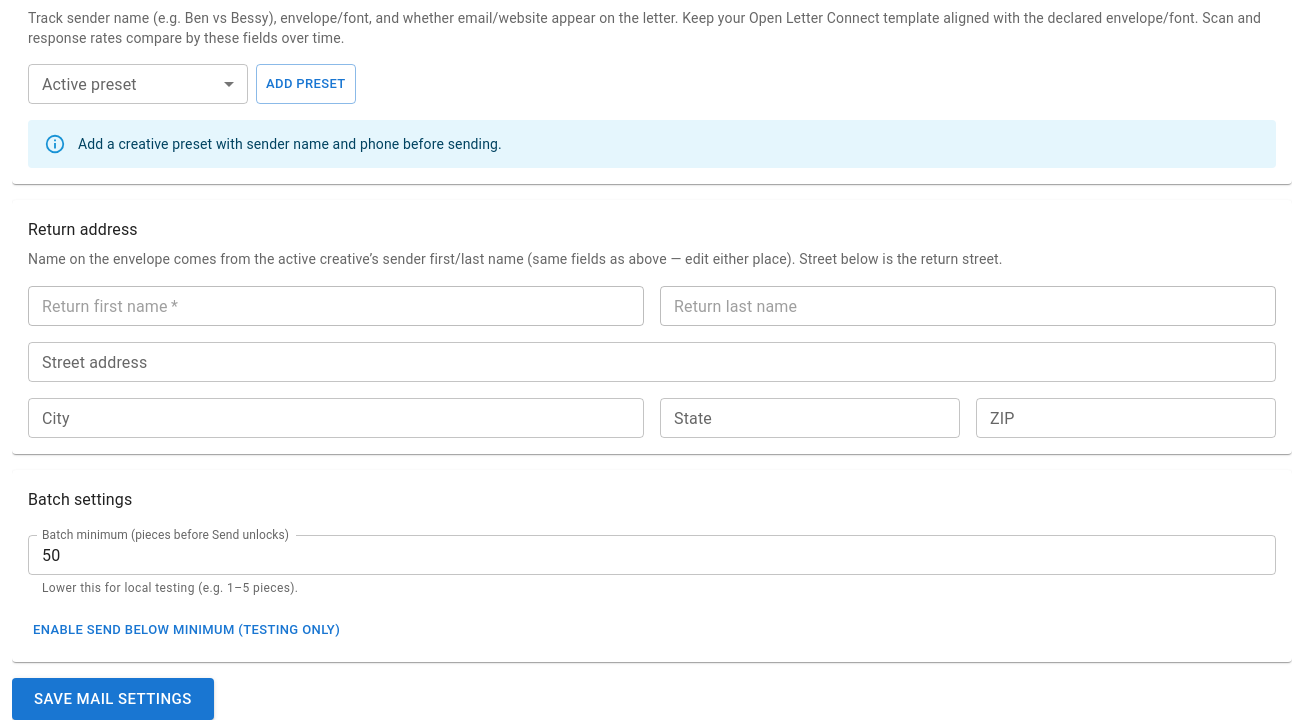
Test case: OpenLetterSetupPanel › saves mail settings without a manual estimated $/piece field
(page scrolled)
What coordinates should you click on to do the following:
click the button "Save mail settings"
I would click on:
 (113, 699)
Its box is [12, 678, 214, 719].
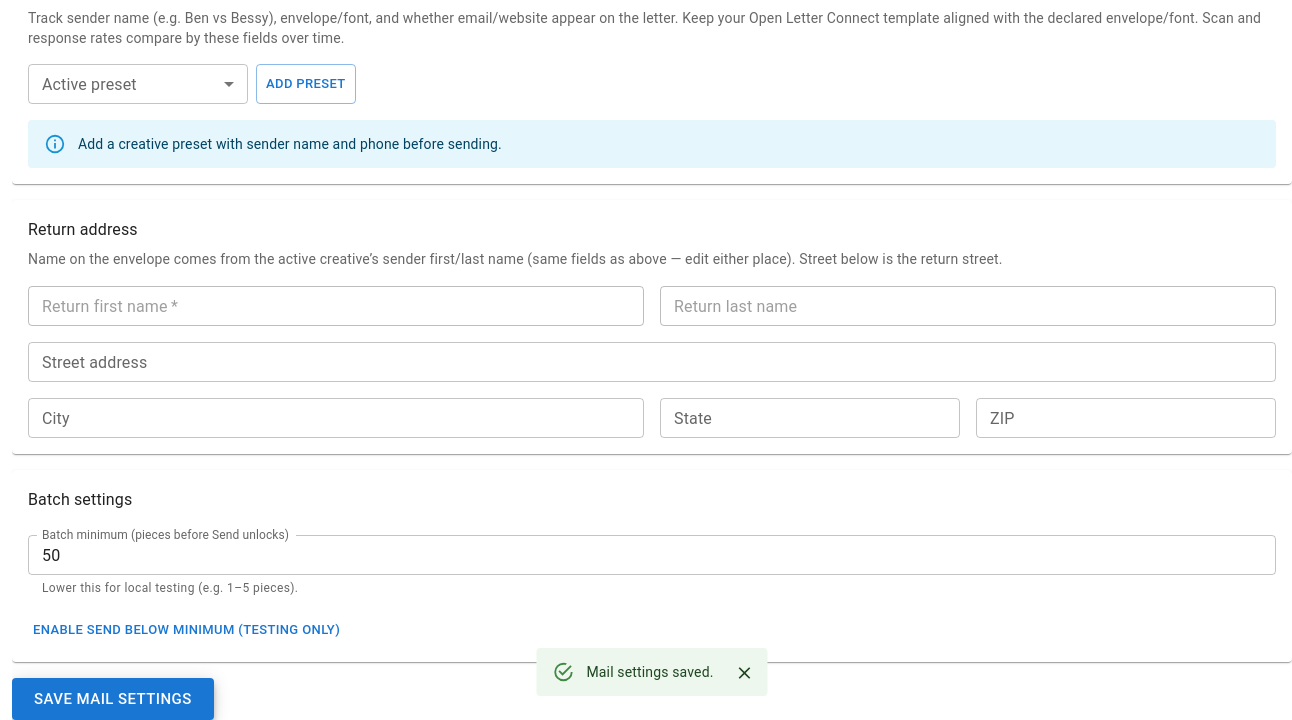
Result: the text "Mail settings saved." is shown at [586, 664, 714, 680]
